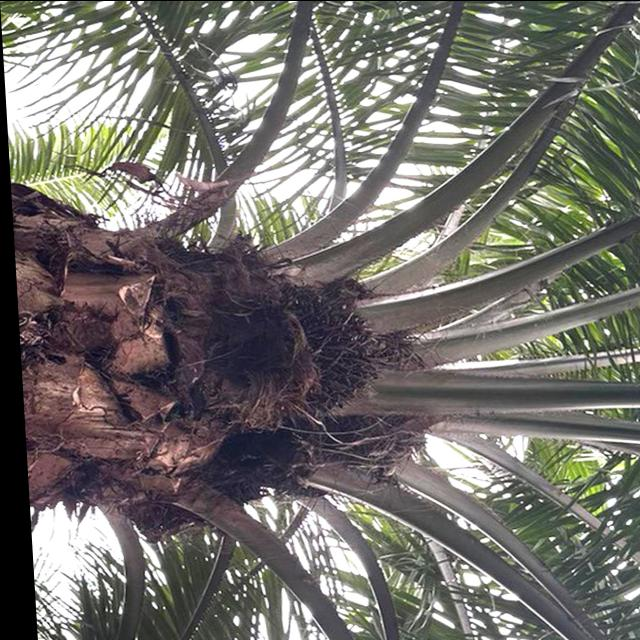almost: (249, 284, 381, 420)
